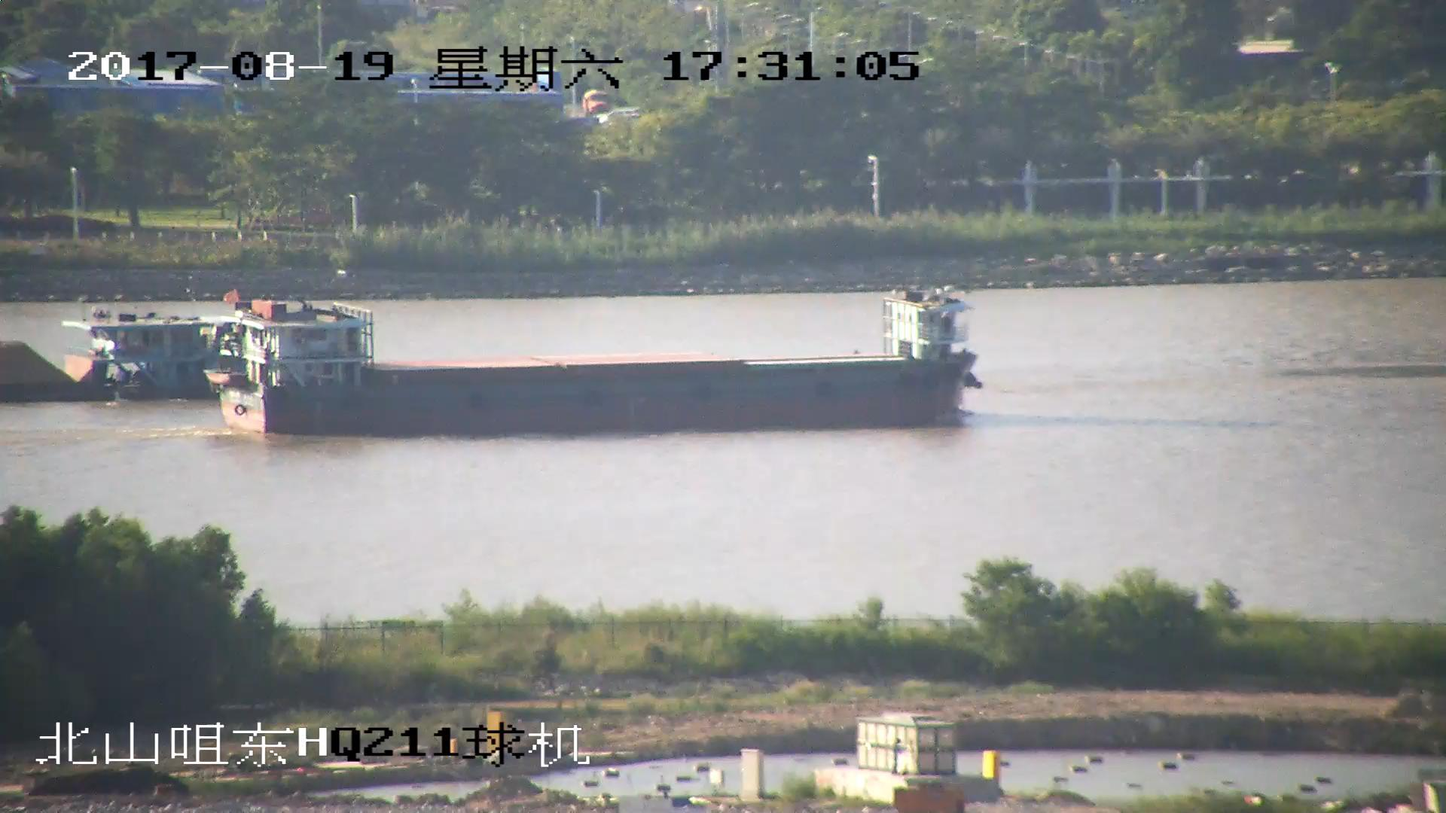general cargo ship: (209, 292, 982, 437)
ore carrier: (0, 313, 206, 402)
